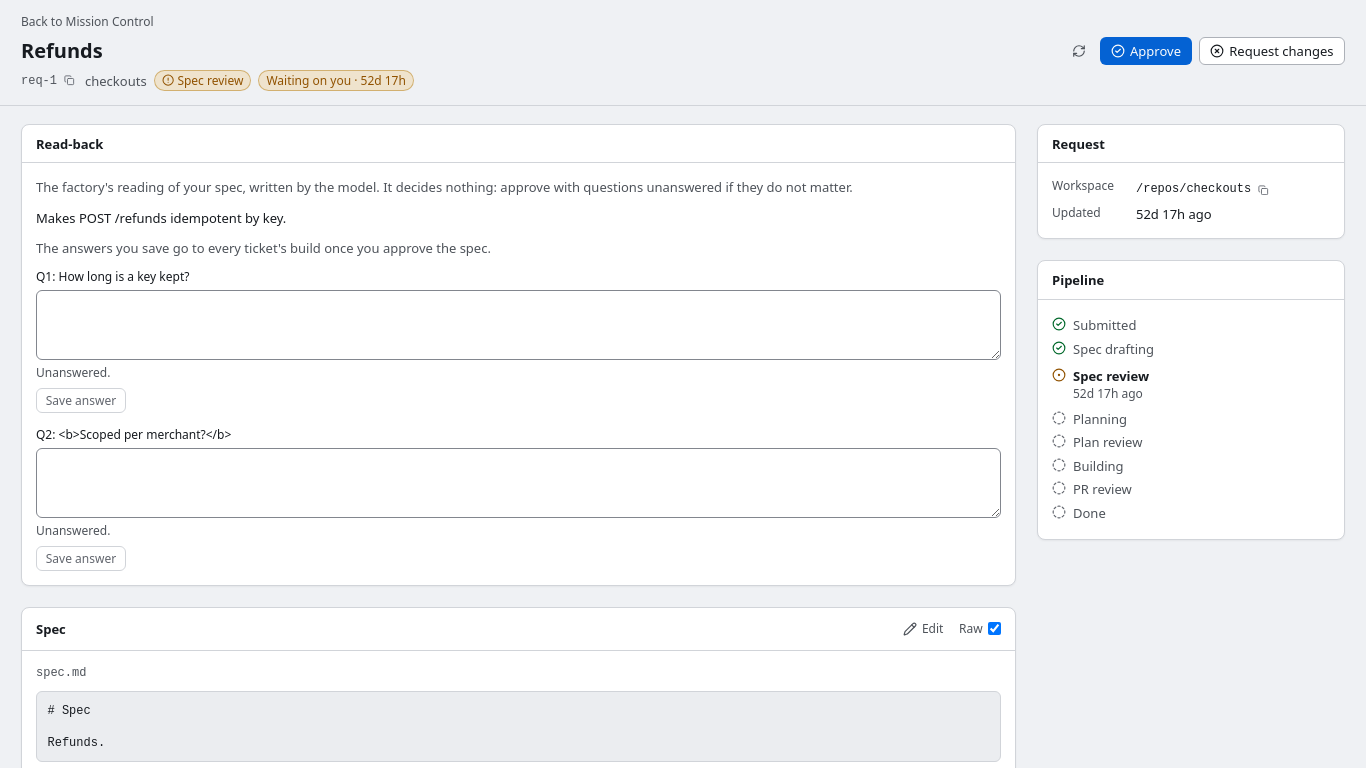
Test: a refused save shows the server's reason
Type "x" into the text box named "Answer to Q1" at point(518, 325), box [36,290,1001,360]
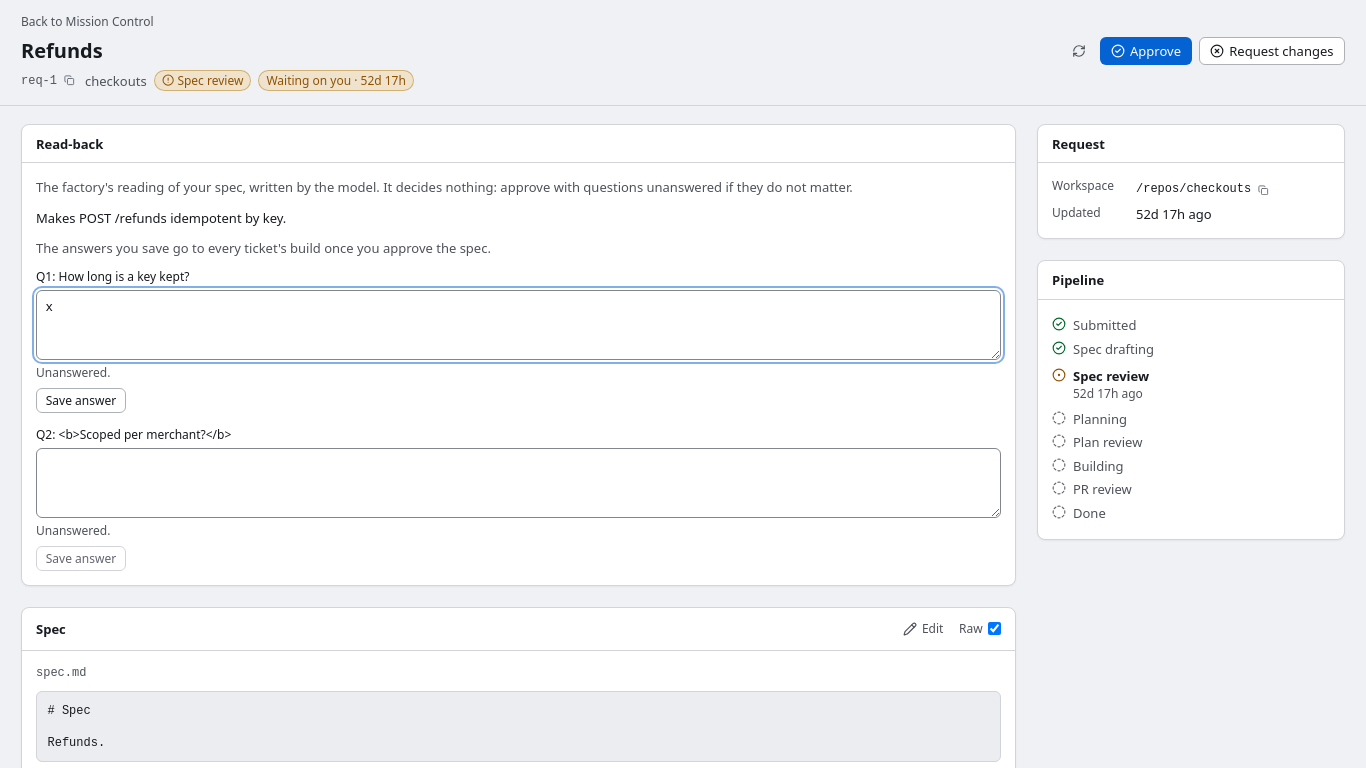
Click the button "Save answer" below "Q1" at point(81, 401), box [36,388,126,413]
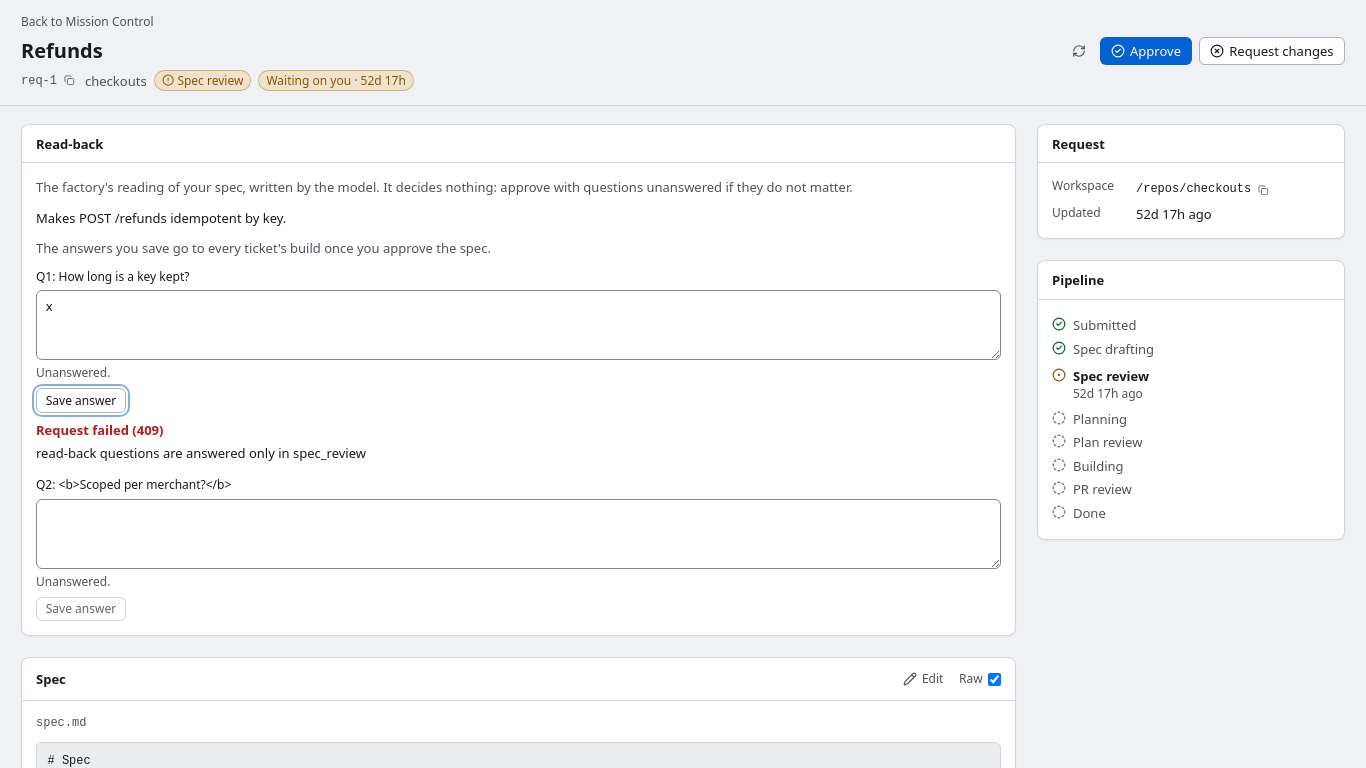
Expected: the message "Request failed (409) read-back questions are answered only in spec_review" is shown, [36,421,366,462]
